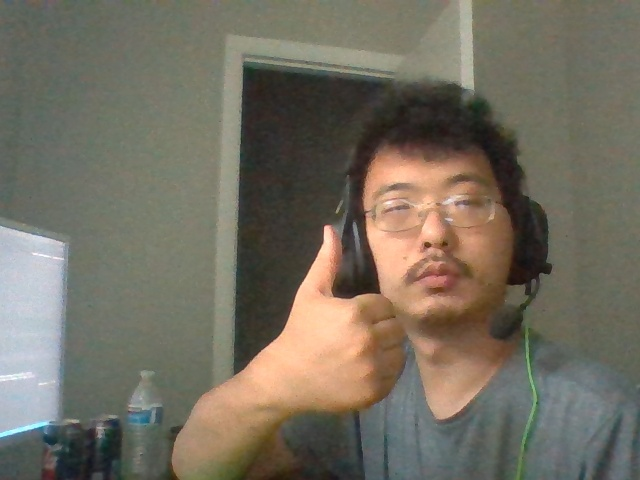ThumbsUp: (274, 224, 407, 417)
